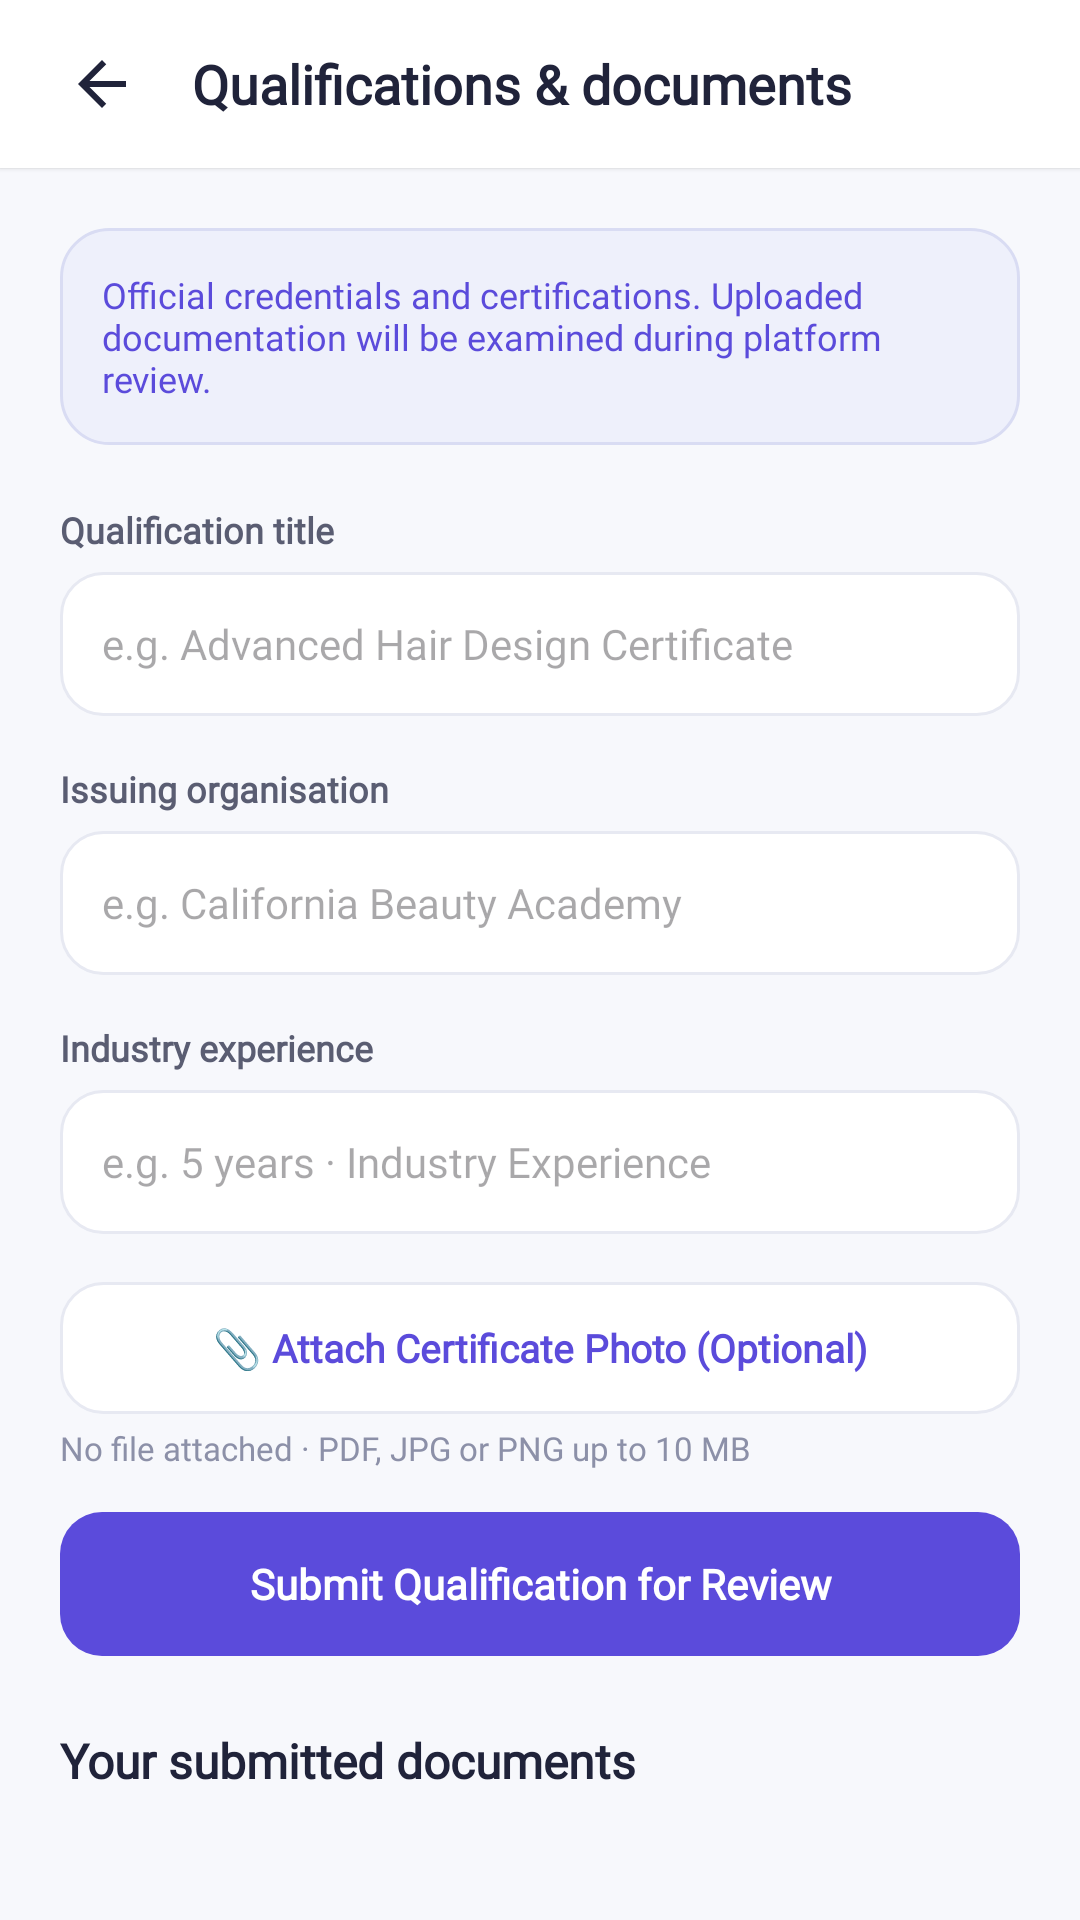

Icon click points for this 1080px x 1920px phone screenshot, format [x,y]:
Back: [102,84]
